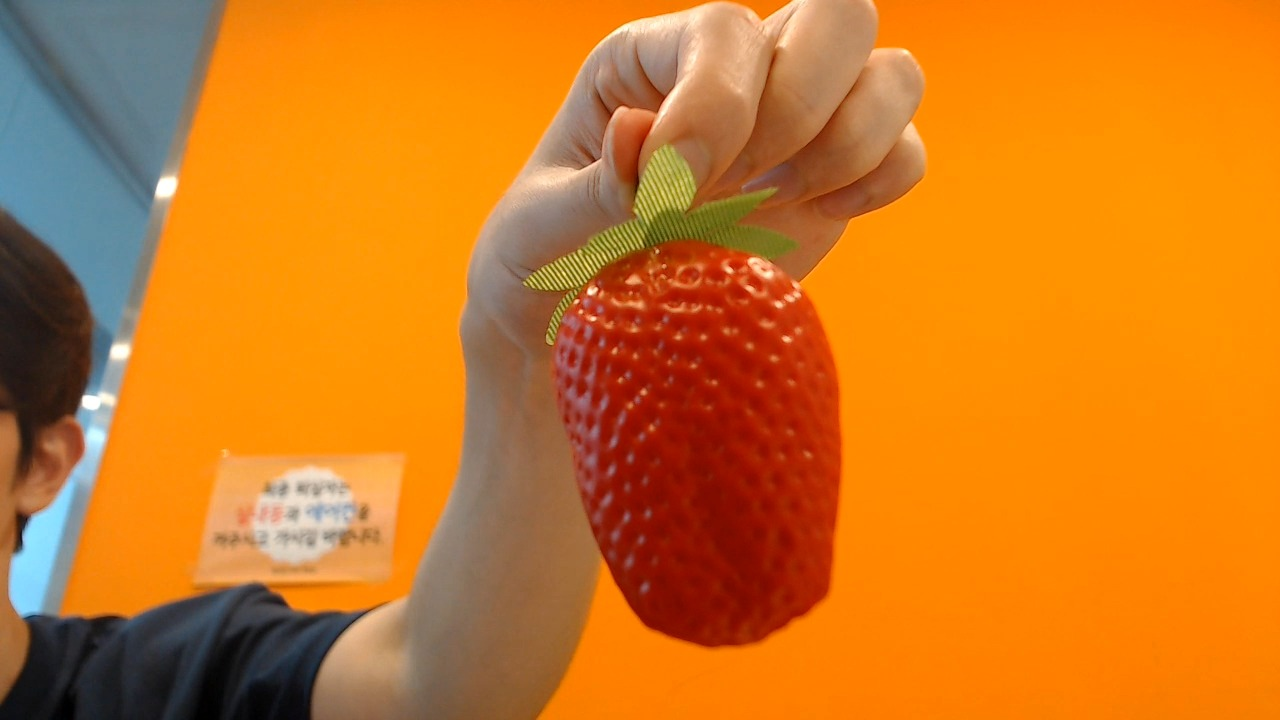strawberry: (551, 218, 841, 646)
